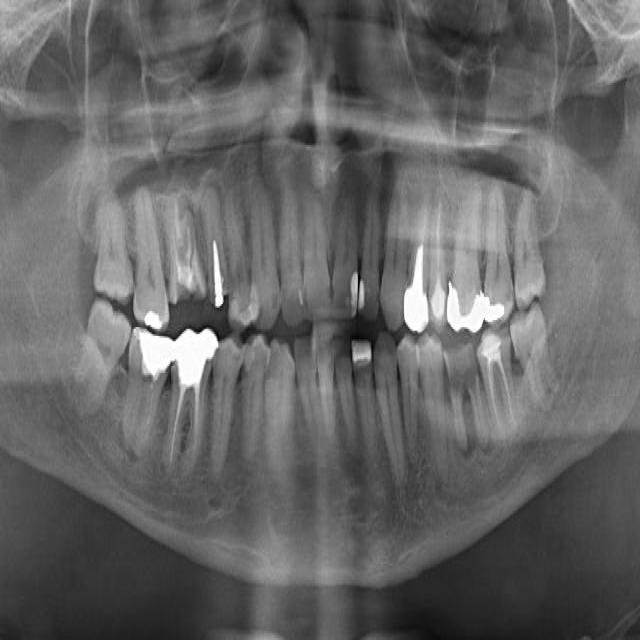dentin-curugu: (165, 248, 209, 322), (440, 329, 482, 399), (328, 332, 358, 383)
dolgu: (129, 317, 176, 389), (205, 218, 231, 316), (134, 289, 170, 336), (474, 324, 509, 372), (482, 274, 514, 324), (428, 258, 450, 330), (350, 324, 378, 378), (347, 264, 371, 318)
kanal-tedavisi: (168, 376, 206, 451), (487, 350, 516, 430), (434, 196, 445, 283)
kaplama: (403, 246, 433, 335), (444, 277, 488, 334), (172, 334, 220, 386)
